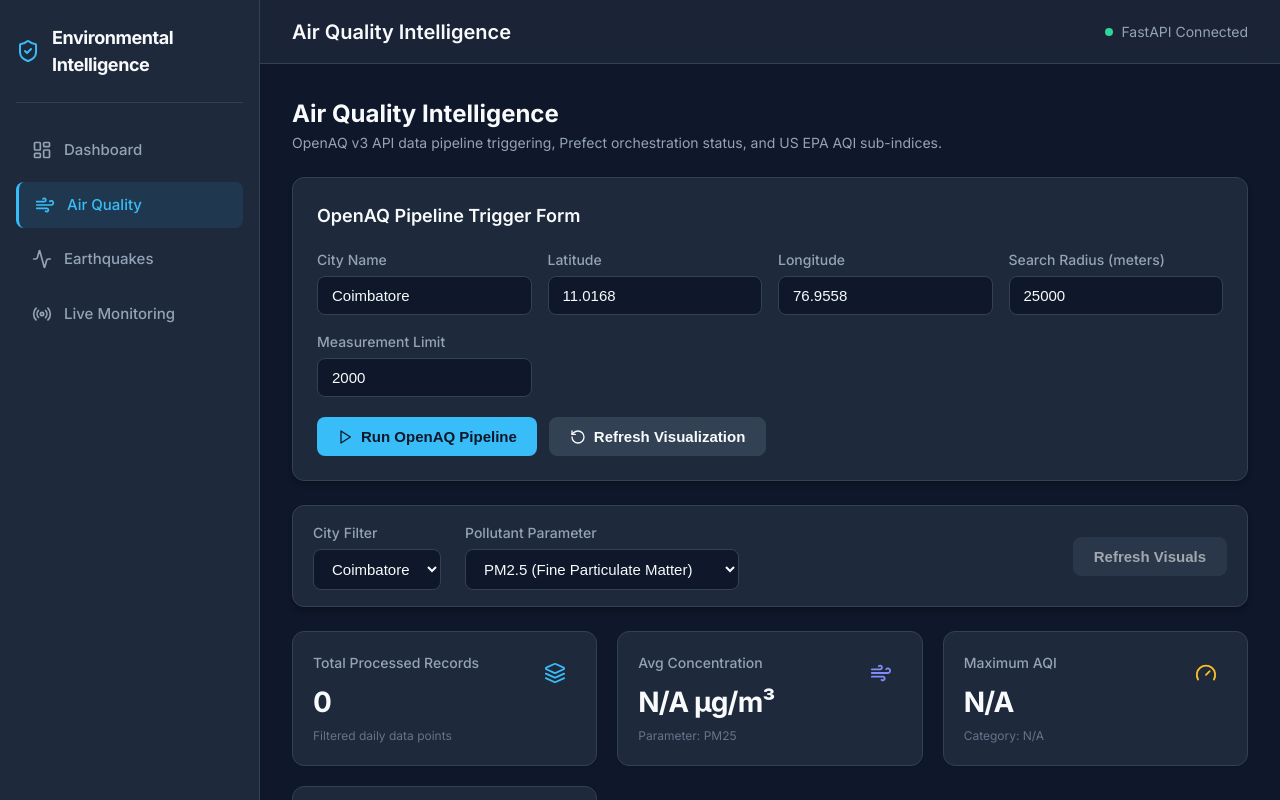
Test: Environmental Intelligence Frontend Suite › renders Earthquake form and validates date order
Click the link "Earthquakes" at (93, 259), box [32,249,154,269]
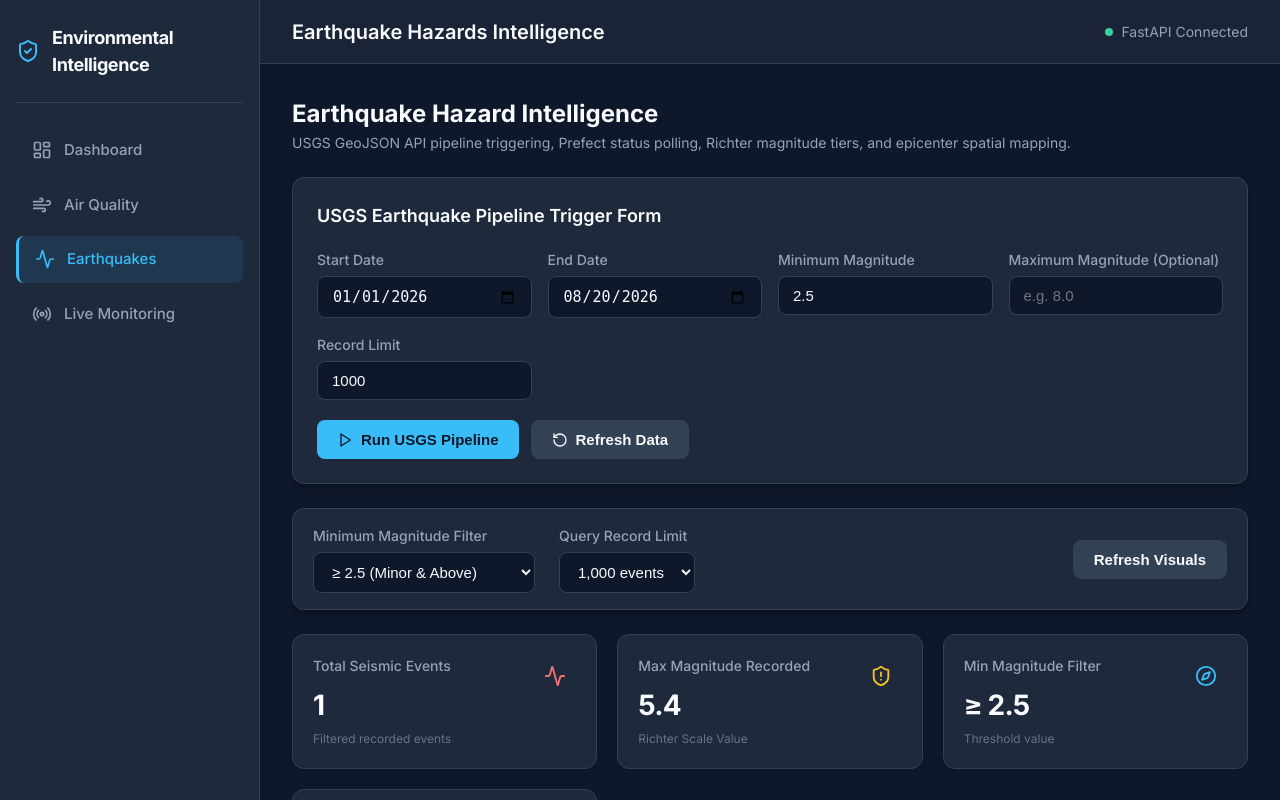
Expected: the heading "Earthquake Hazard Intelligence" is shown, [292,99,658,128]
Type "2026-08-20" into the date field labelled "Start Date" at (424, 297), box [317,276,532,318]
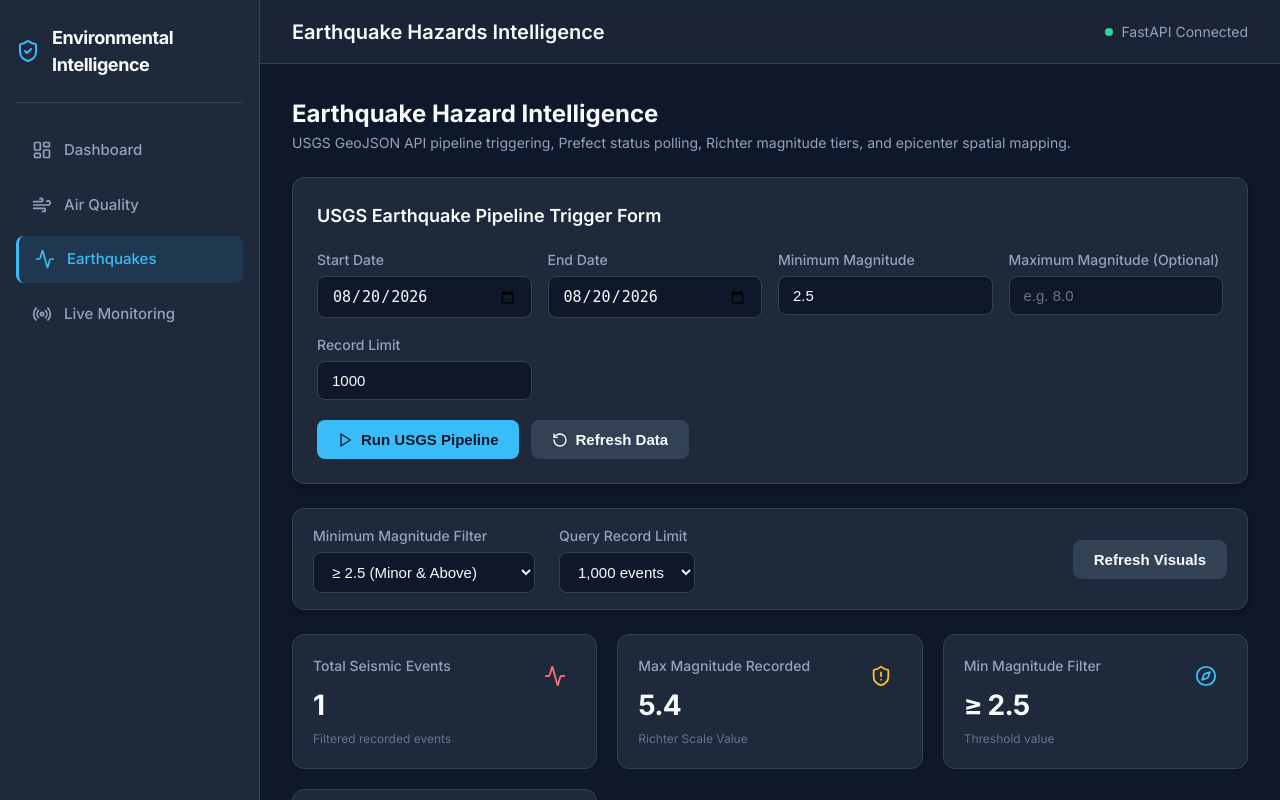
Type "2026-01-01" into the date field labelled "End Date" at (655, 297), box [548,276,762,318]
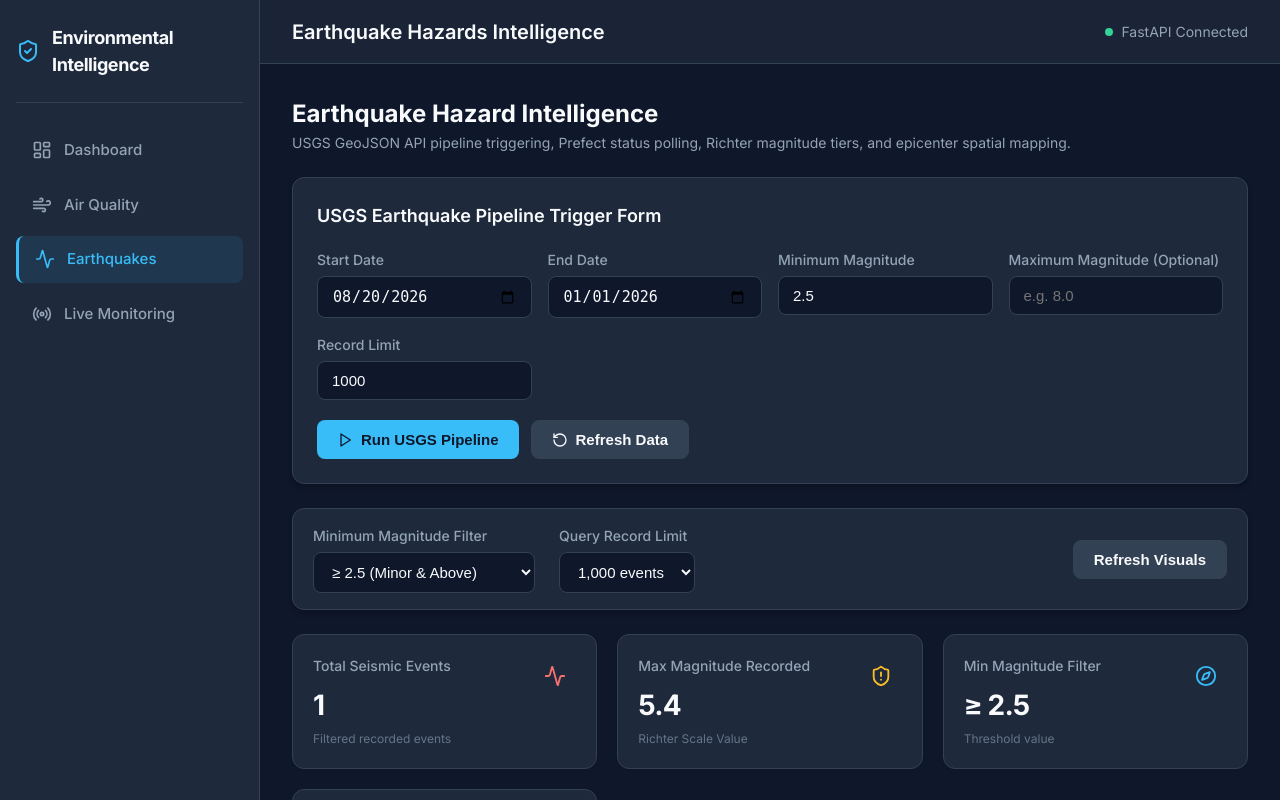
Click the button "Run USGS Pipeline" at (418, 440), box [317,420,518,459]
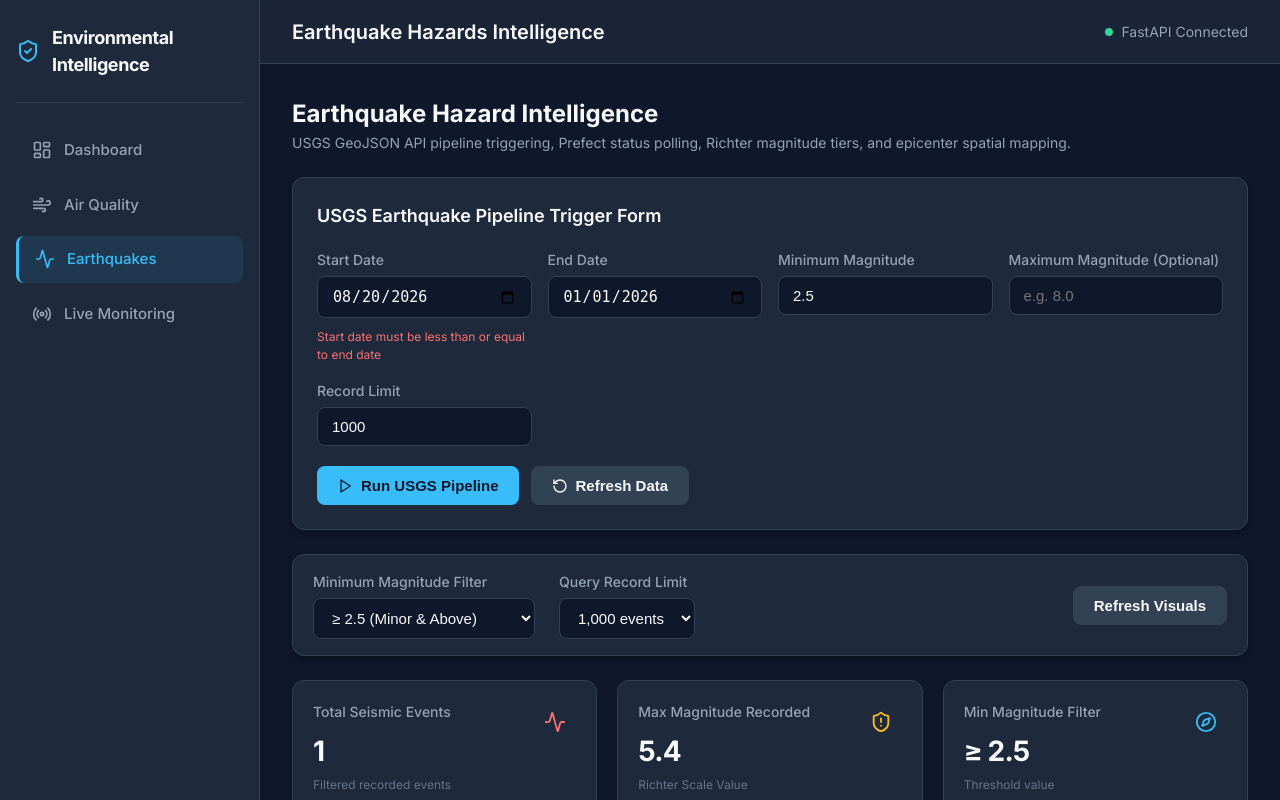
Expected: the text "Start date must be less than or equal to end date" is shown, [317,328,532,364]
